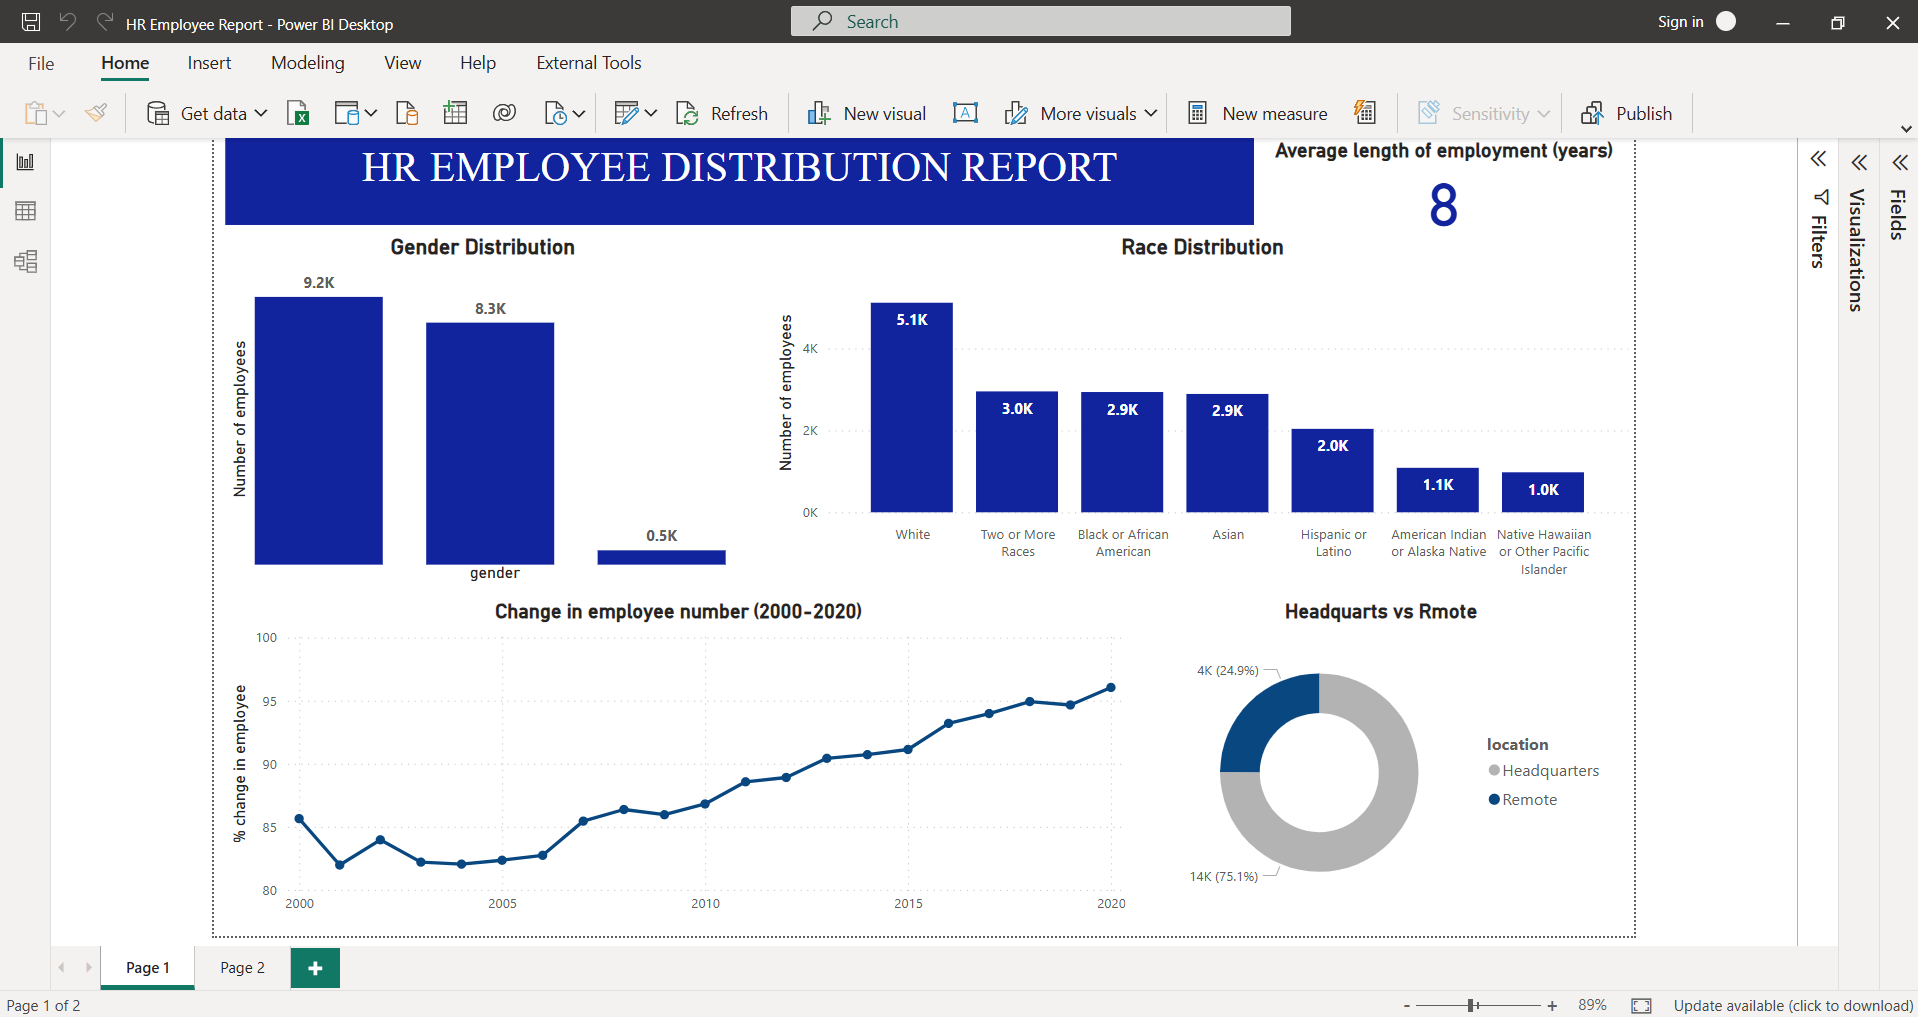

The page's visual inventory and layout, read from the dashboard file:
{"tool":"powerbi","page":{"name":"Page 1","canvas":[1280,720],"ordinal":0},"visuals":[{"type":"textbox","box":[9.8,0,927.8,78.2],"z":0},{"type":"card","title":"Average length of employment (years)","fields":{"Values":["Sum(avg_length_employement.avg_length_employement)"]},"box":[937.6,0,342.3,86.8],"z":1000},{"type":"columnChart","title":"Gender Distribution","fields":{"Category":["Gender.gender"],"Y":["Sum(Gender.count)"]},"box":[9.8,86.8,464.5,317.8],"z":2000},{"type":"donutChart","title":"Headquarts vs Rmote","fields":{"Category":["location.location"],"Y":["Sum(location.count)"]},"box":[841,415.6,423,292.2],"z":3000},{"type":"lineChart","title":"Change in employee number (2000-2020)","fields":{"Category":["employee  changed.year"],"Y":["Sum(employee  changed.net_change_percent)"]},"box":[9.8,415.6,816.6,292.2],"z":4000},{"type":"clusteredColumnChart","title":"Race Distribution","fields":{"Category":["Race.race"],"Y":["Sum(Race.count)"]},"box":[502.4,86.8,777.5,317.8],"z":6000}]}

Visuals, with their boxes on the page's 1280x720 design canvas (x1, y1, x2, y2). These are canvas units, not pixel positions in the 1918x1017 screenshot, which may show the page scaled, cropped or inside an application window:
textbox: (10,0,938,78)
"Average length of employment (years)" card: (938,0,1280,87)
"Gender Distribution" columnChart: (10,87,474,405)
"Headquarts vs Rmote" donutChart: (841,416,1264,708)
"Change in employee number (2000-2020)" lineChart: (10,416,826,708)
"Race Distribution" clusteredColumnChart: (502,87,1280,405)
